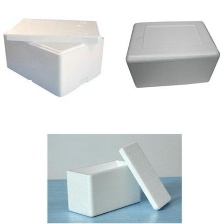foam_box: (0, 13, 108, 99), (61, 138, 175, 219), (120, 16, 224, 91)
